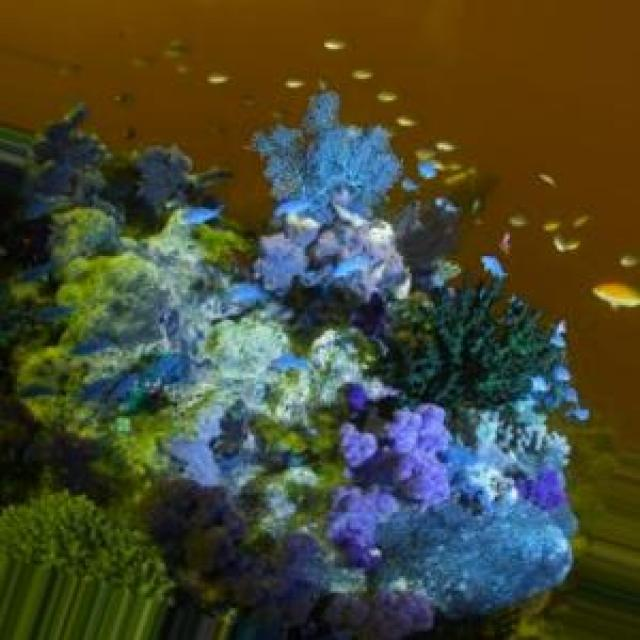Healthy: (1, 78, 573, 640), (52, 210, 191, 430), (255, 492, 432, 640), (389, 268, 571, 411), (251, 95, 404, 231), (1, 494, 172, 613), (423, 507, 547, 628), (340, 385, 447, 511), (144, 440, 229, 592)
